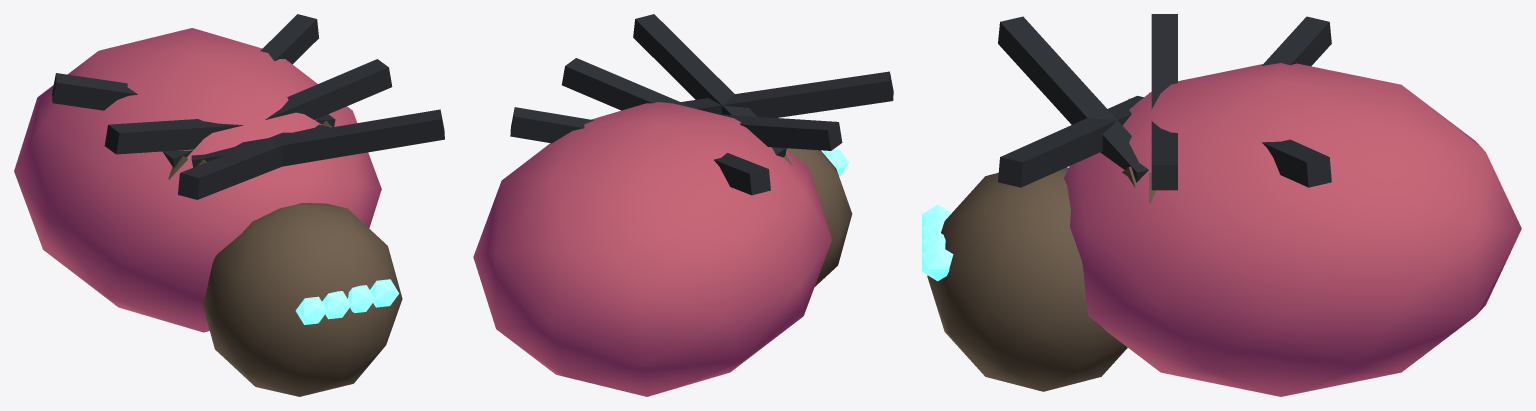
Rendered from en_spider.glb.
3 views of the same model, side by side, from view 1: azimuth 30°, elevation 25°; view 2: azimuth 150°, elevation 25°; view 3: azimuth 270°, elevation 25° (orthographic). The views are drawn at different scales.
Parts seen in each view (by area): view 1: torso, leg3, leg4, leg0, leg1, leg2, leg5; view 2: torso, leg0, leg3, leg4, leg1, leg5, leg2; view 3: torso, leg0, leg3, leg1, leg5, leg2, leg4.
Boxes of the visible parts, <box> form: torso: <box>14,28,402,396</box>; leg3: <box>191,109,444,167</box>; leg4: <box>163,59,392,179</box>; leg0: <box>178,124,329,199</box>; leg1: <box>104,114,335,154</box>; leg2: <box>52,73,137,110</box>; leg5: <box>260,14,318,64</box>; torso: <box>473,102,852,396</box>; leg0: <box>681,71,893,117</box>; leg3: <box>633,14,756,116</box>; leg4: <box>562,58,792,165</box>; leg1: <box>718,114,842,150</box>; leg5: <box>510,107,593,143</box>; leg2: <box>714,153,770,195</box>; torso: <box>922,63,1521,396</box>; leg0: <box>998,16,1148,187</box>; leg3: <box>998,95,1143,187</box>; leg1: <box>1149,14,1177,203</box>; leg5: <box>1262,139,1331,187</box>; leg2: <box>1262,16,1331,66</box>; leg4: <box>1149,92,1177,190</box>.
Bounding box in the file's own units: 0.76 × 0.624 × 1.14.
